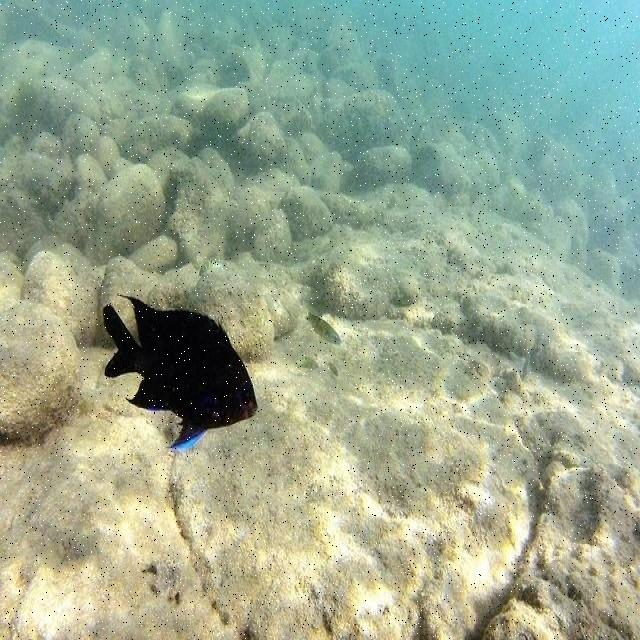fish: (103, 293, 258, 448), (307, 313, 339, 342)
